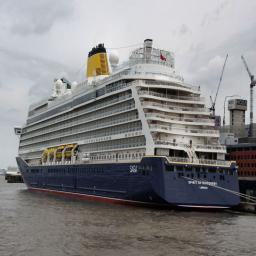cruises: (15, 30, 246, 217)
